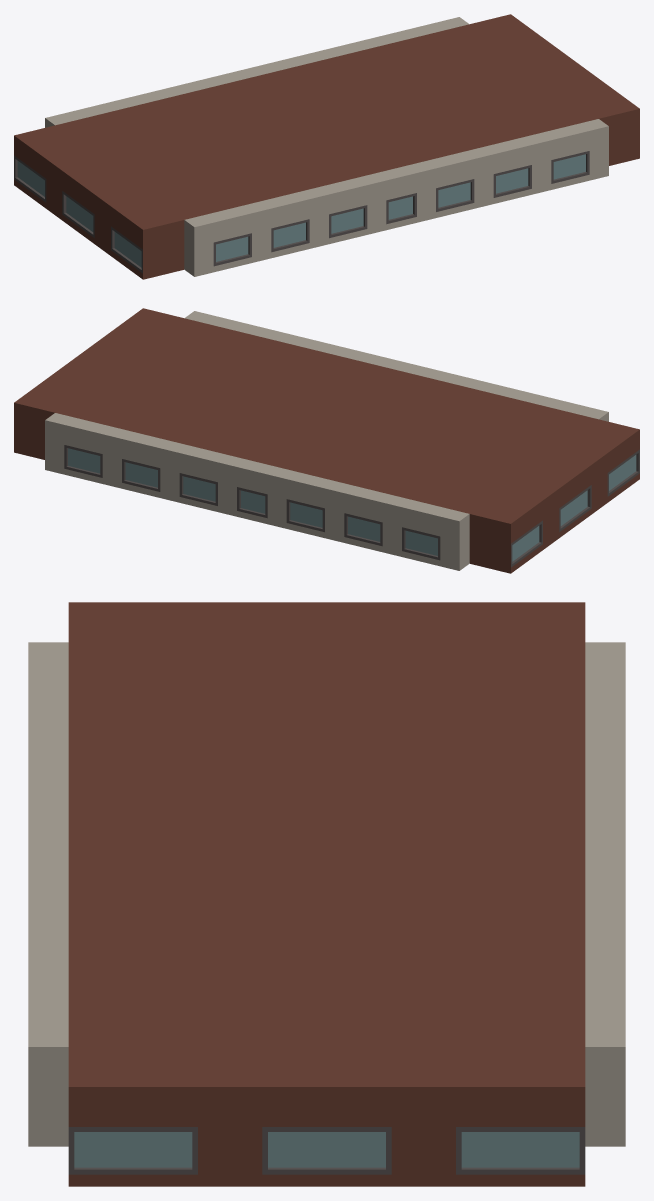
Rendered from Long_S2_Mid.fbx.
3 views of the same model, one above another, from view 1: azimuth 30°, elevation 25°; view 2: azimuth 150°, elevation 25°; view 3: azimuth 270°, elevation 25° (orthographic). The views are drawn at different scales.
Parts seen in each view (by area): view 1: Long_S2_Mid; view 2: Long_S2_Mid; view 3: Long_S2_Mid.
Part boxes in pixels (x1,y1,x2,y2): Long_S2_Mid: (14,14,639,279); Long_S2_Mid: (14,308,639,573); Long_S2_Mid: (28,602,625,1186).
Size of the model in its own units: 5220 by 500 by 2718.
